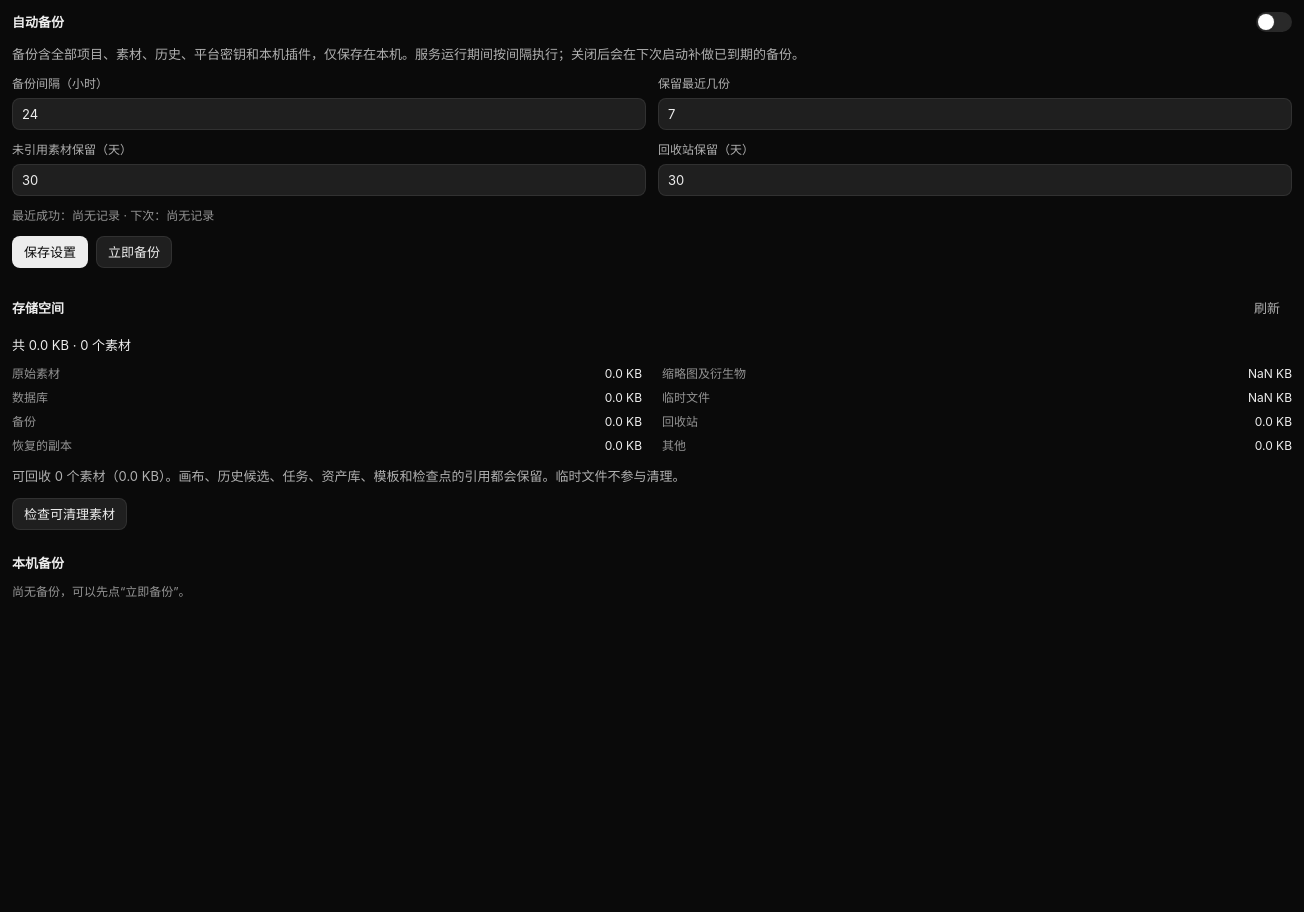
维护状态的读取失败与恢复 › 备份成功后读取失败，保留操作结果与设置草稿，重试不重复备份
This screenshot has width=1304, height=912.
Step 1. Replace the text in the number field labelled "保留最近几份" with "8" → (975, 114), box [658, 98, 1292, 130]
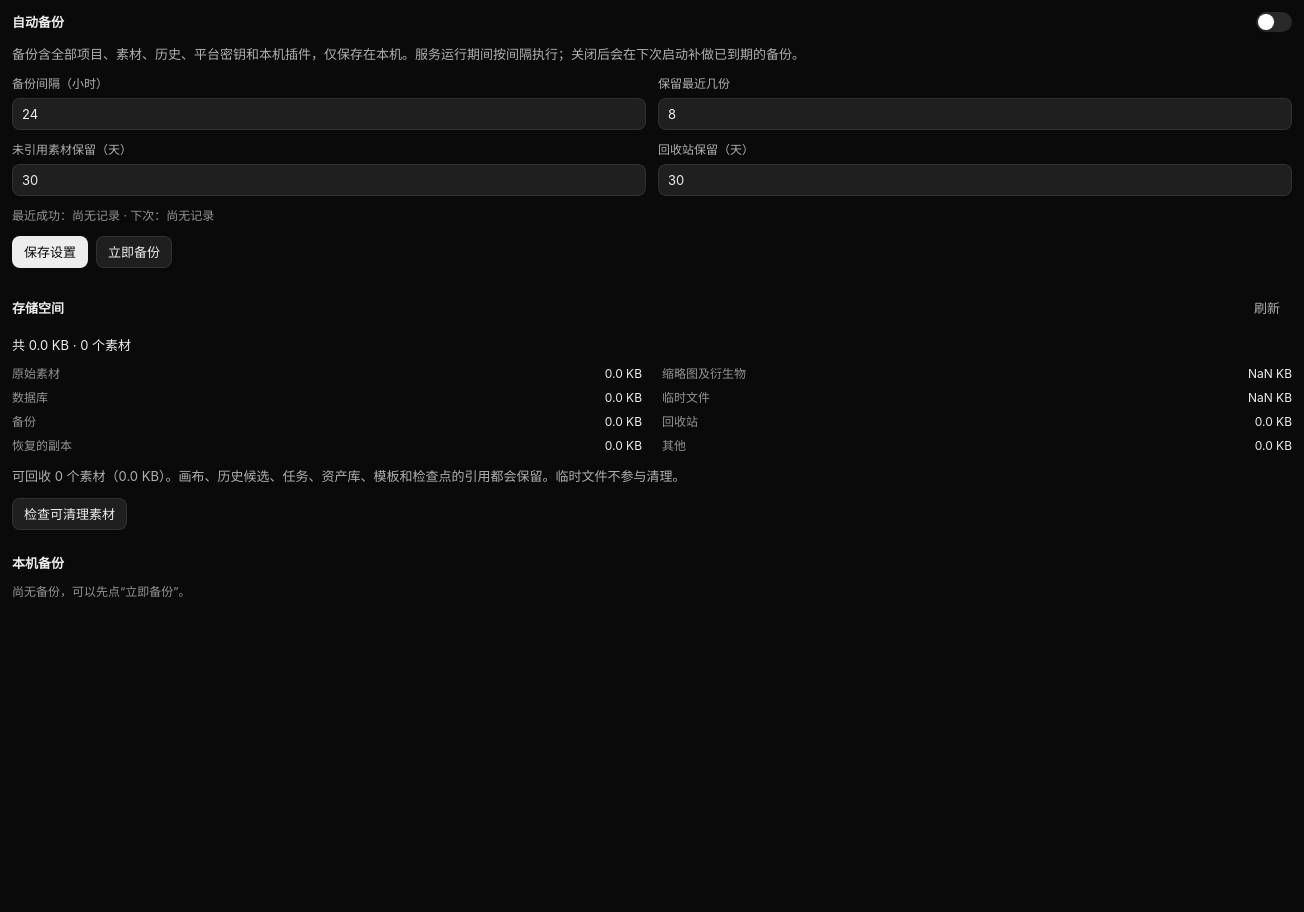
Step 2. Click the button "立即备份" → click(134, 252), box [96, 236, 172, 268]
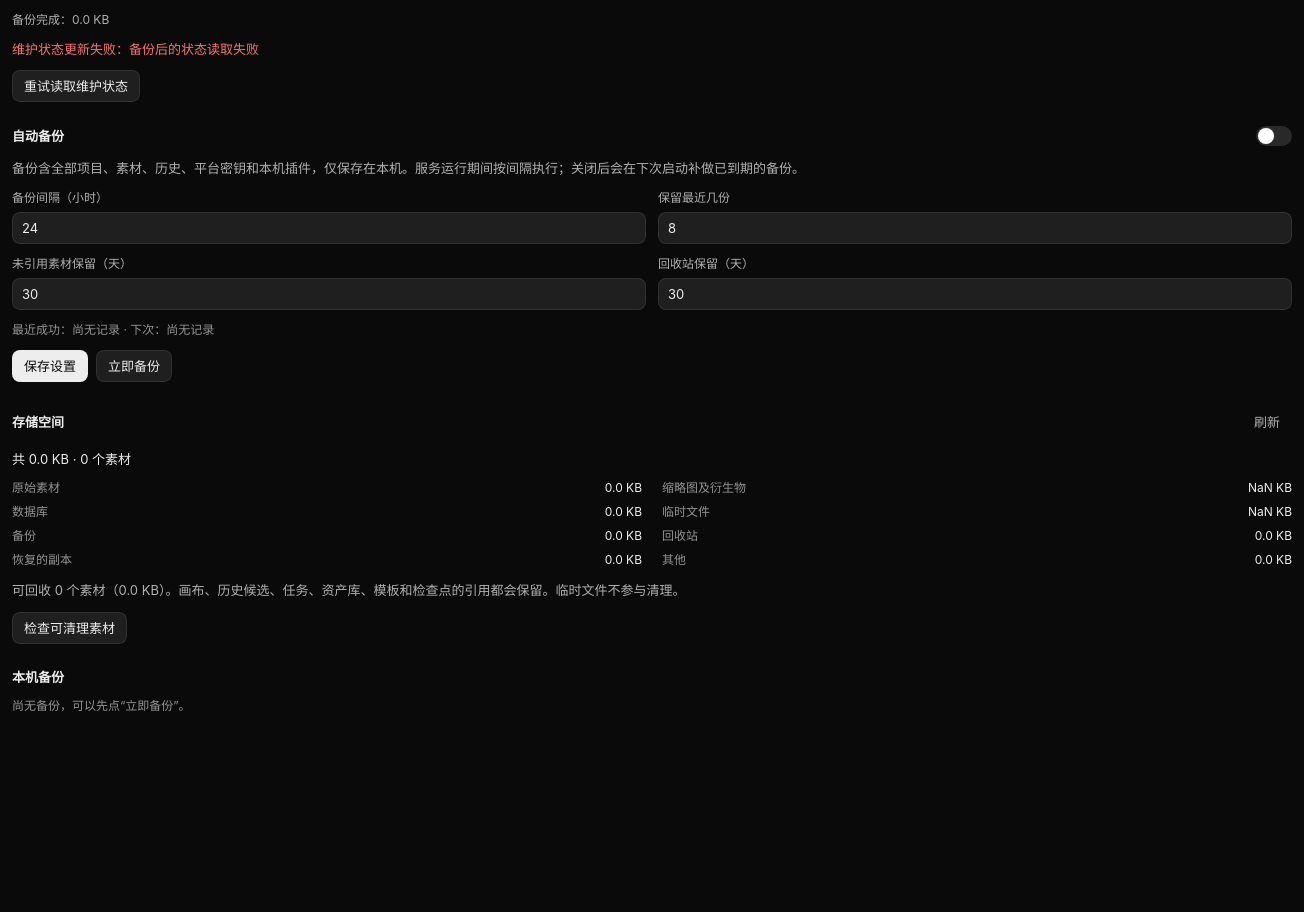
Result: the message "维护状态更新失败：备份后的状态读取失败" is shown at [12, 41, 259, 57]
Result: the message "备份完成：0.0 KB" is shown at [12, 12, 109, 27]
Step 3. Click the button "重试读取维护状态" → click(76, 86), box [12, 70, 140, 102]
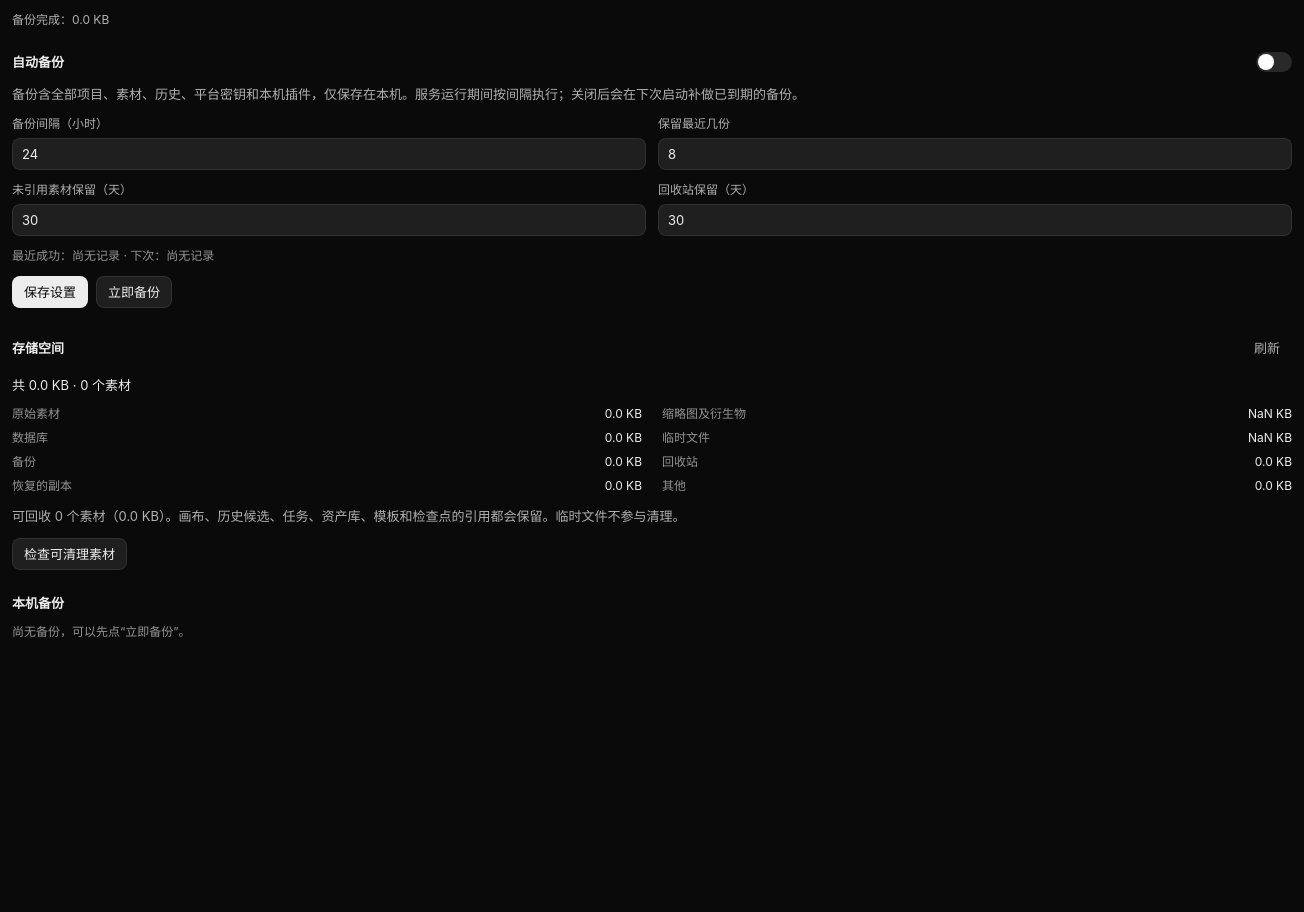
Result: the message "维护状态更新失败：备份后的状态读取失败" is gone
